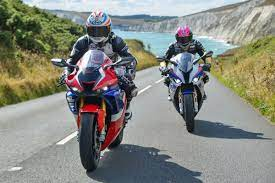moto: (59, 61, 129, 173), (160, 54, 209, 134)
person: (74, 14, 132, 69), (162, 27, 209, 59)
